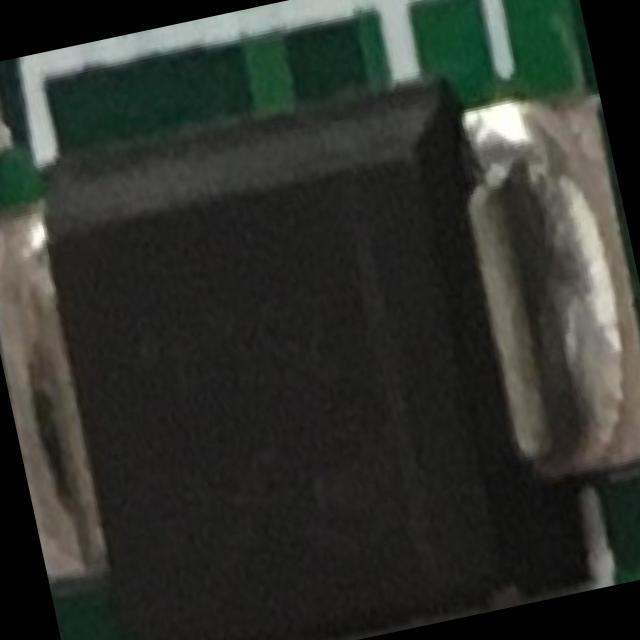diode: (0, 69, 615, 640)
